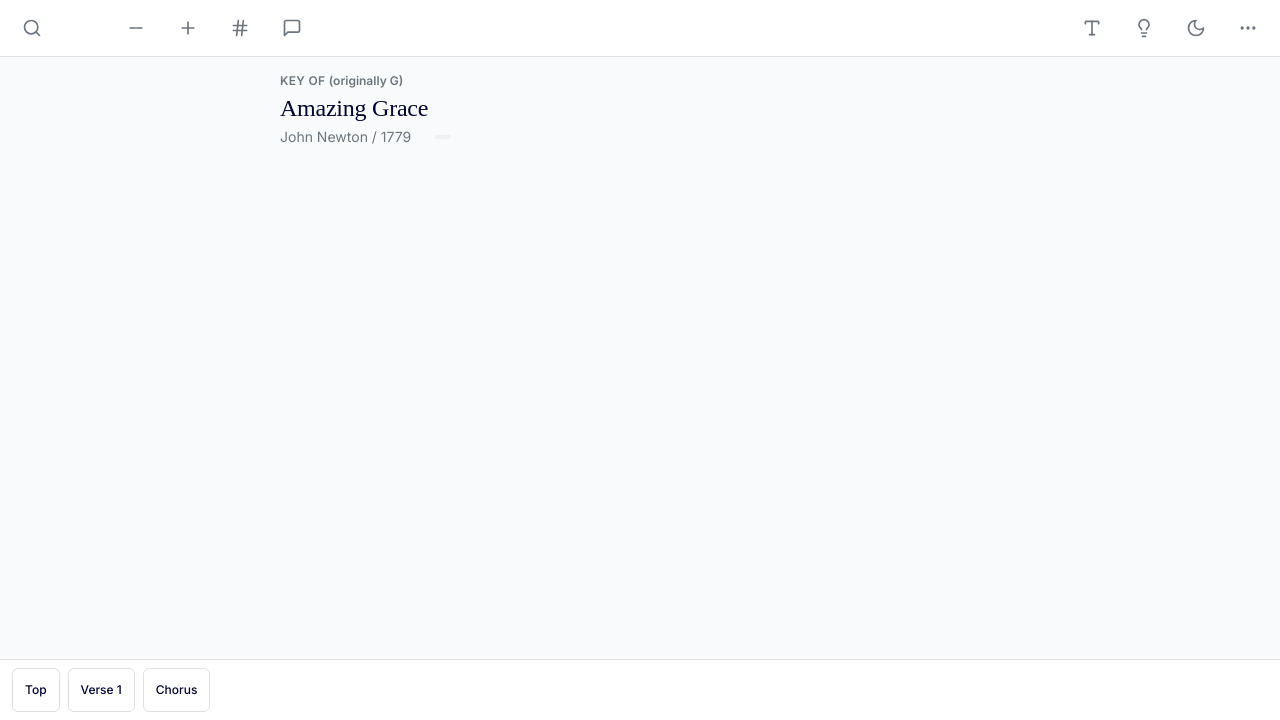
Test: SongChartPage › More menu › hides editing actions from observers
The width and height of the screenshot is (1280, 720).
Click the button named "more actions" at {"x": 1248, "y": 28}, box [1224,4,1272,52]
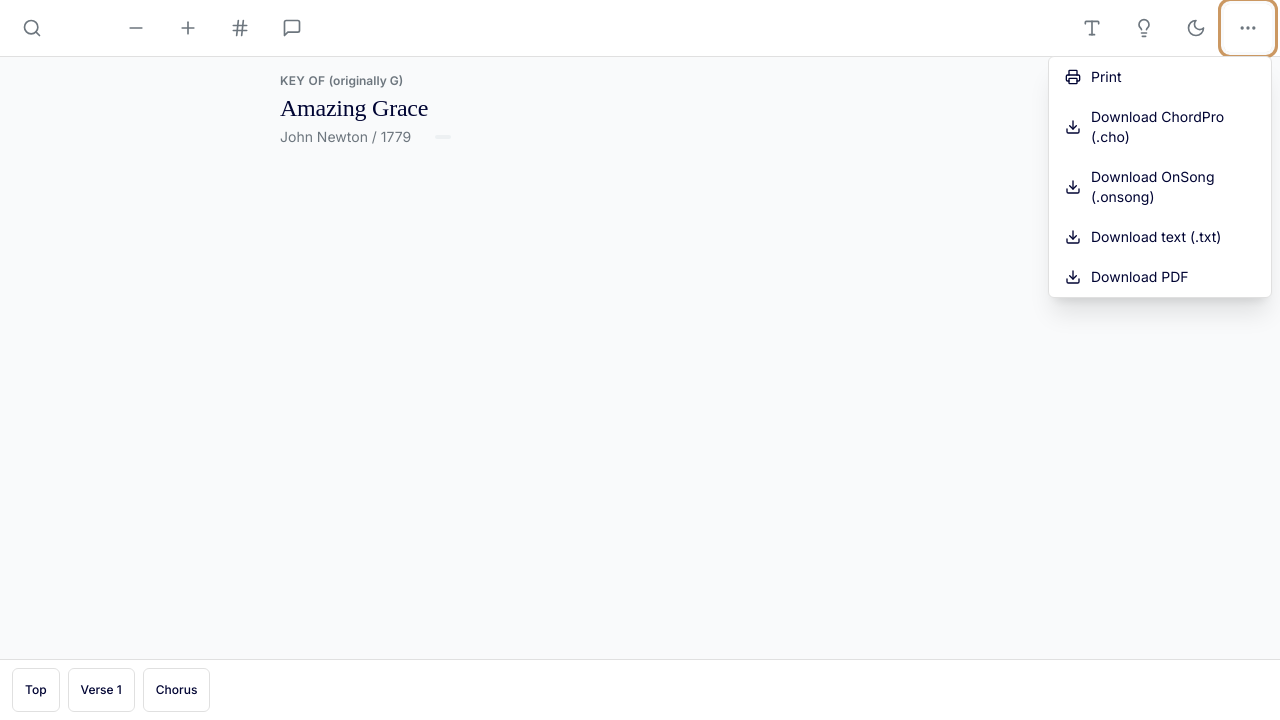
Expected: the menu item "Print" is shown, [1049,57,1271,97]
